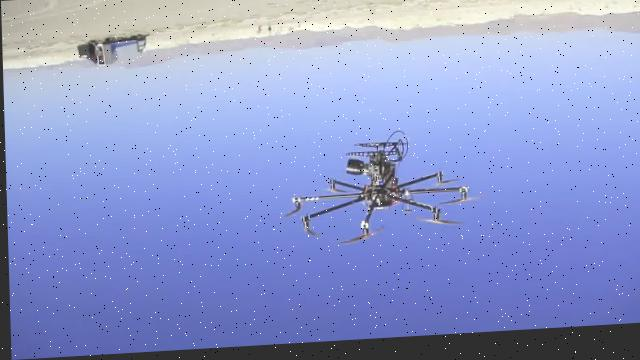drone: (0, 0, 640, 94)
